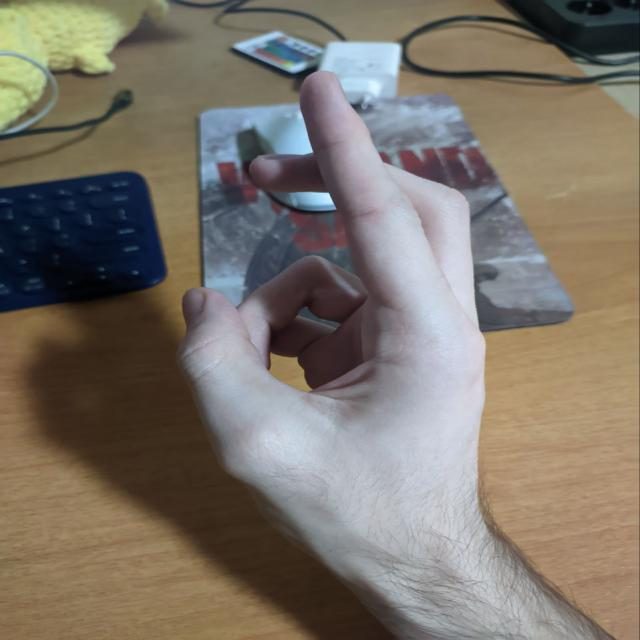b: (170, 75, 494, 483)
